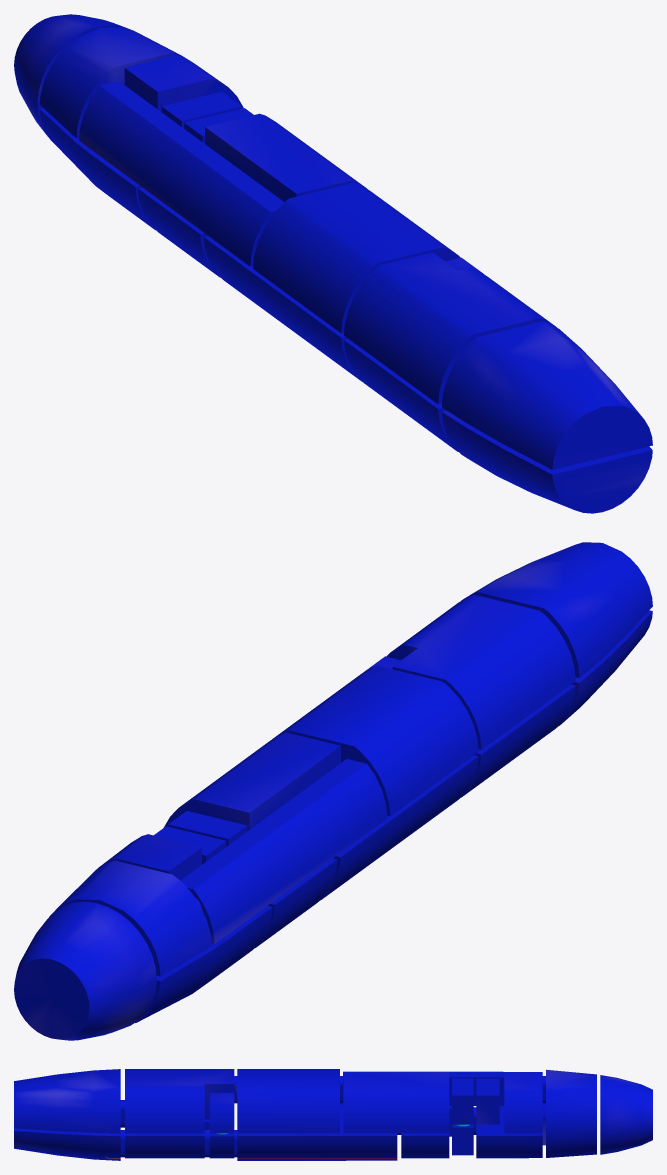
File: Submarine_reference.fbx
3 views of the same model, one above another, from view 1: azimuth 30°, elevation 25°; view 2: azimuth 150°, elevation 25°; view 3: azimuth 270°, elevation 25° (orthographic). The views are drawn at different scales.
Visible parts, largest first — view 1: Storage, MessHall, Hall (top), Bridge, EngineRoom, SleepingQuarters, MissalBay, ReactorRoom, Sonar, Airlock, LifeSuport, Torpedo bay (+3 smaller); view 2: MessHall, Hall (top), Bridge, Sonar, Storage, MissalBay, SleepingQuarters, ReactorRoom, Torpedo bay, LifeSuport, Airlock, hall (front-bottom (+3 smaller); view 3: Bridge, SleepingQuarters, Storage, MessHall, ReactorRoom, MissalBay, Sonar, EngineRoom, Airlock, Torpedo bay, hall (aft-bottop), MechanickRoom (+7 smaller).
Part boxes in pixels (left/top/right/bottom): Storage: left=442, top=321, right=652, bottom=469; MessHall: left=344, top=252, right=555, bottom=404; Hall (top): left=79, top=81, right=284, bottom=266; Bridge: left=253, top=182, right=460, bottom=333; EngineRoom: left=442, top=410, right=652, bottom=513; SleepingQuarters: left=205, top=113, right=366, bottom=201; MissalBay: left=39, top=27, right=184, bottom=138; ReactorRoom: left=203, top=236, right=362, bottom=381; Sonar: left=14, top=14, right=129, bottom=137; Airlock: left=124, top=55, right=243, bottom=111; LifeSuport: left=344, top=339, right=458, bottom=451; Torpedo bay: left=39, top=108, right=155, bottom=230; MessHall: left=386, top=594, right=575, bottom=749; Hall (top): left=180, top=759, right=387, bottom=944; Bridge: left=273, top=665, right=478, bottom=816; Sonar: left=14, top=901, right=156, bottom=1040; Storage: left=461, top=542, right=652, bottom=677; MissalBay: left=49, top=860, right=211, bottom=976; SleepingQuarters: left=163, top=732, right=340, bottom=831; ReactorRoom: left=318, top=755, right=478, bottom=901; Torpedo bay: left=135, top=906, right=272, bottom=1022; LifeSuport: left=461, top=684, right=575, bottom=797; Airlock: left=98, top=834, right=201, bottom=880; hall (front-bottom: left=255, top=858, right=337, bottom=947; Bridge: left=237, top=1069, right=342, bottom=1133; SleepingQuarters: left=343, top=1072, right=449, bottom=1133; Storage: left=14, top=1069, right=124, bottom=1133; MessHall: left=125, top=1069, right=237, bottom=1133; ReactorRoom: left=237, top=1103, right=401, bottom=1160; MissalBay: left=546, top=1069, right=596, bottom=1157; Sonar: left=600, top=1075, right=652, bottom=1154; EngineRoom: left=14, top=1128, right=124, bottom=1160; Airlock: left=504, top=1072, right=542, bottom=1133; Torpedo bay: left=476, top=1103, right=545, bottom=1158; hall (aft-bottop): left=125, top=1133, right=204, bottom=1158; MechanickRoom: left=401, top=1133, right=449, bottom=1158.
Bounding box in the file's own units: 854 × 759 × 5916.
